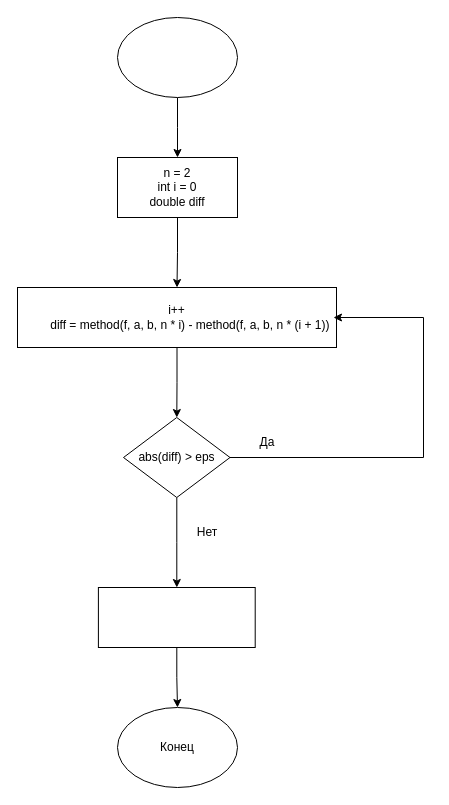
Some shapes in this 449 by 805 pixel diagram are drawn without their labels. The box of each missing label's shape, as (x1, y1, x2, y2) in pixels:
n = n * (i + 1) return method(f, a, b, n * i): (97, 586, 255, 648)
Начало: (116, 16, 238, 98)
